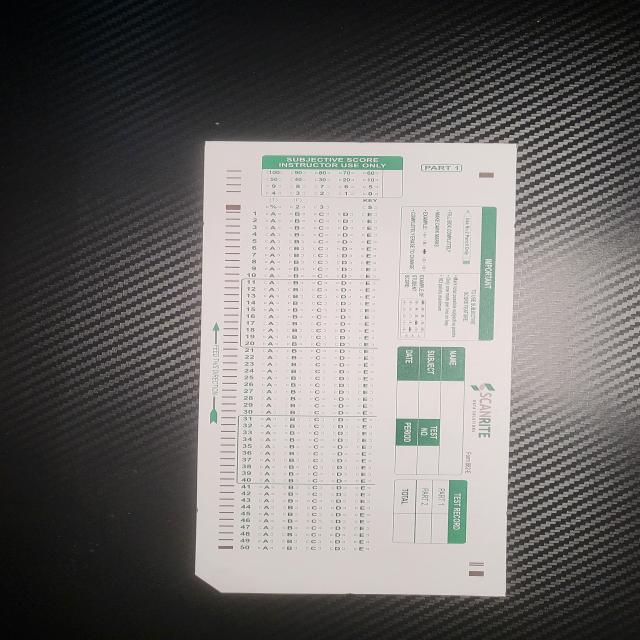scantron: (195, 141, 518, 597)
